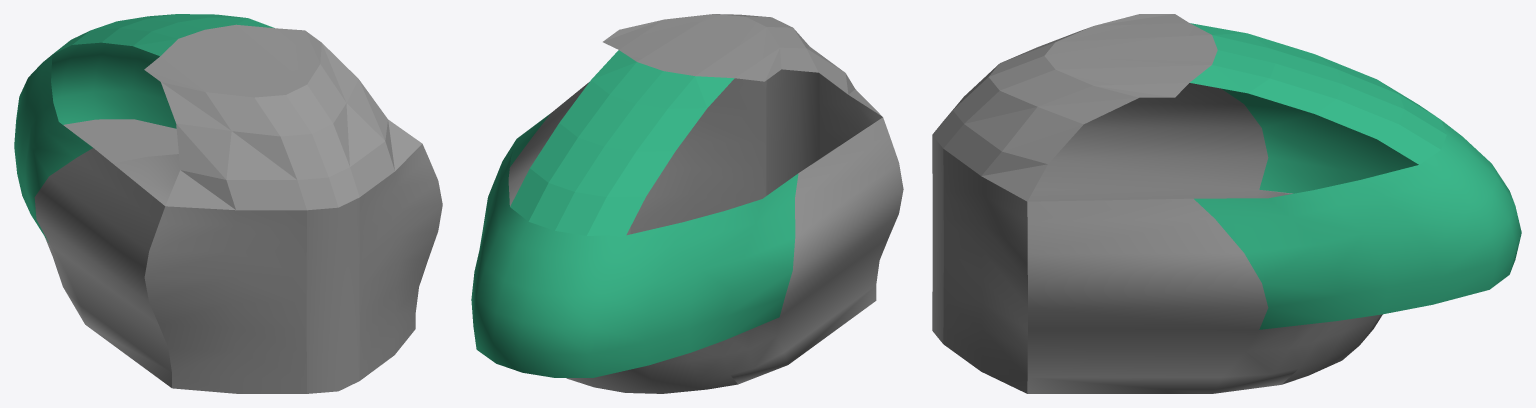
File: m_alienBox.FBX
3 renders of one model, left to right at view 1: azimuth 30°, elevation 25°; view 2: azimuth 150°, elevation 25°; view 3: azimuth 270°, elevation 25°, orthographic. The views are drawn at different scales.
Parts seen in each view (by area): view 1: spaceTempBox; view 2: spaceTempBox; view 3: spaceTempBox.
Boxes of the visible parts, <box> form: spaceTempBox: <box>14,14,442,393</box>; spaceTempBox: <box>471,14,903,393</box>; spaceTempBox: <box>932,14,1521,393</box>.
Bounding box in the file's own units: 63.55 × 53.64 × 102.
